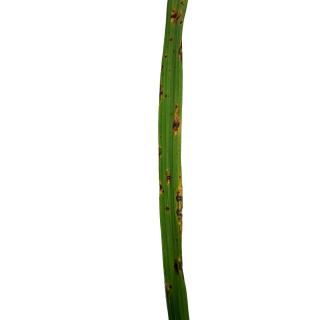Blast: (176, 183, 184, 252), (171, 104, 181, 140), (171, 5, 183, 28), (159, 80, 167, 104), (174, 255, 182, 277), (177, 37, 182, 67), (165, 278, 174, 294), (166, 168, 172, 188), (160, 182, 164, 196)
